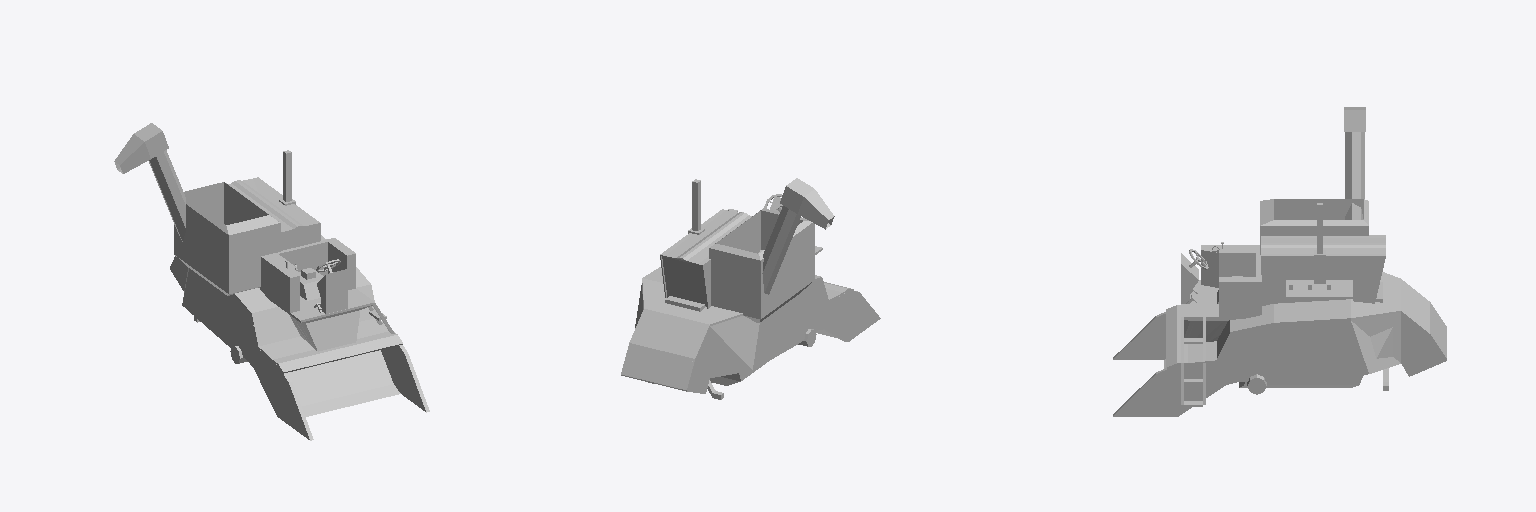
The model's file is selfpropelledharvester.obj.
The picture shows the model from 3 angles: view 1: azimuth 30°, elevation 25°; view 2: azimuth 150°, elevation 25°; view 3: azimuth 270°, elevation 25°; orthographic projection.
Visible parts, largest first — view 1: Cube.011_Cube.030; view 2: Cube.011_Cube.030; view 3: Cube.011_Cube.030.
Part boxes in pixels (left/top/right/bottom): Cube.011_Cube.030: left=114, top=123, right=429, bottom=440; Cube.011_Cube.030: left=621, top=178, right=880, bottom=393; Cube.011_Cube.030: left=1113, top=107, right=1446, bottom=416.
Size of the model in its own units: 5.42 by 5.96 by 7.76.